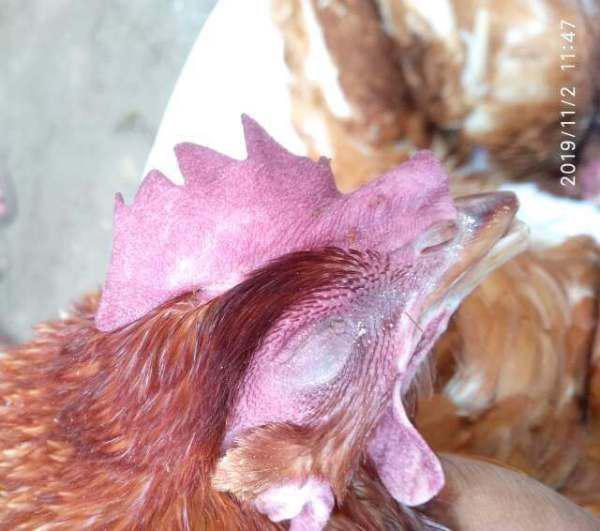AbNormal: (0, 109, 534, 531), (267, 0, 600, 199), (401, 230, 599, 526)
